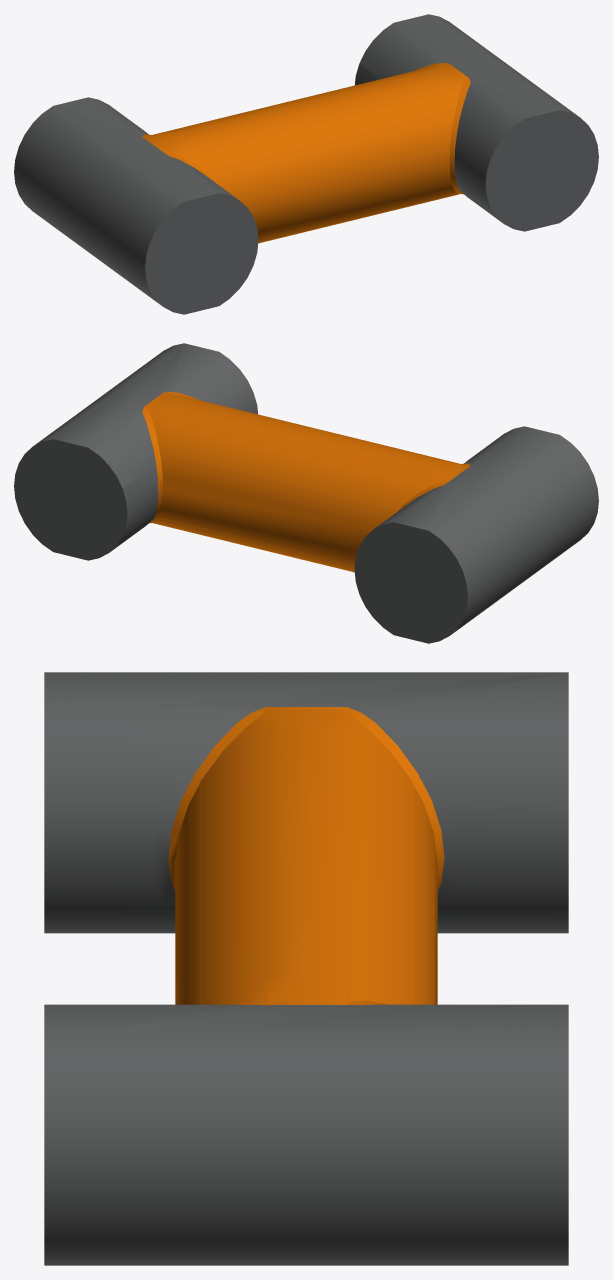
3 views of the same model, one above another, from view 1: azimuth 30°, elevation 25°; view 2: azimuth 150°, elevation 25°; view 3: azimuth 270°, elevation 25° (orthographic). The views are drawn at different scales.
Parts seen in each view (by area): view 1: k1_LOD0, k1_col; view 2: k1_LOD0, k1_col; view 3: k1_LOD0, k1_col.
Part boxes in pixels (x1=…): k1_LOD0: x1=14, y1=14, x2=598, y2=314; k1_col: x1=55, y1=15, x2=598, y2=314; k1_LOD0: x1=14, y1=343, x2=598, y2=643; k1_col: x1=14, y1=343, x2=524, y2=643; k1_LOD0: x1=44, y1=672, x2=568, y2=1265; k1_col: x1=44, y1=672, x2=568, y2=1039.
Size of what is drawn, in the model's own units: 48 by 11.93 by 24.
